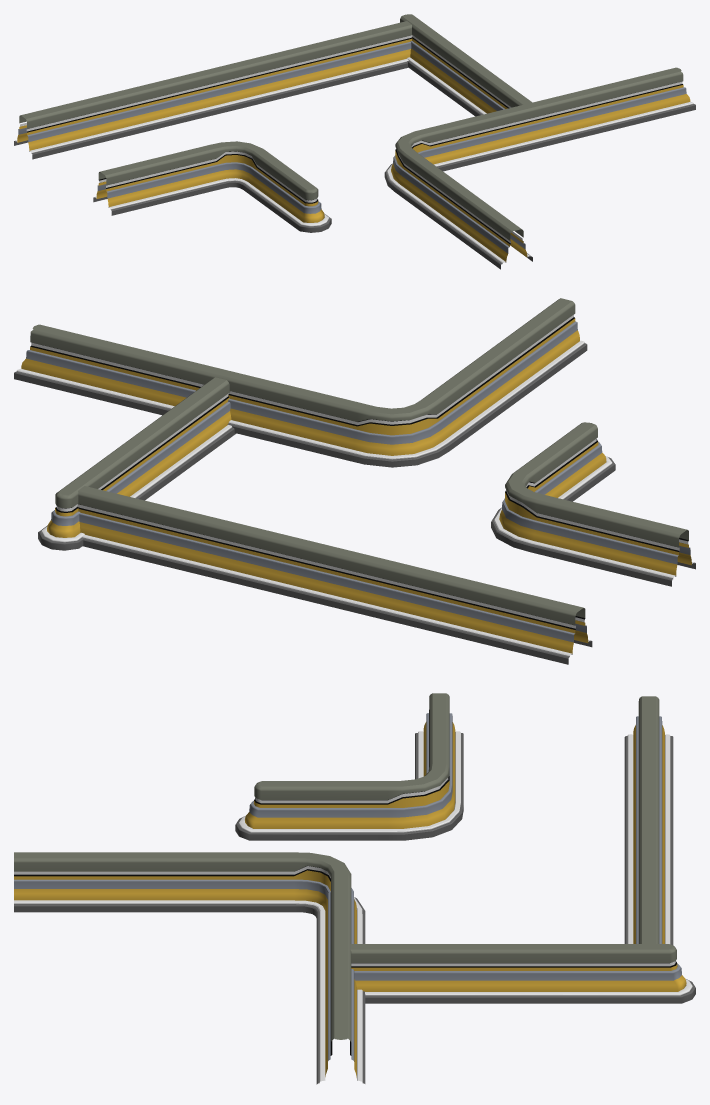
The model's file is Level30_Small_walls.fbx.
3 views of the same model, one above another, from view 1: azimuth 30°, elevation 25°; view 2: azimuth 150°, elevation 25°; view 3: azimuth 270°, elevation 25° (orthographic). The views are drawn at different scales.
Visible parts, largest first — view 1: Small_wall_L51, Small_wall_L47, Small_wall_L46, Small_wall_L48; view 2: Small_wall_L51, Small_wall_L47, Small_wall_L46, Small_wall_L48; view 3: Small_wall_L51, Small_wall_L48, Small_wall_L46, Small_wall_L47.
Part boxes in pixels (bbox=[...]): Small_wall_L51: bbox=[384, 67, 695, 269]; Small_wall_L47: bbox=[14, 21, 412, 159]; Small_wall_L46: bbox=[93, 141, 331, 232]; Small_wall_L48: bbox=[400, 14, 532, 116]; Small_wall_L51: bbox=[14, 298, 587, 467]; Small_wall_L47: bbox=[77, 486, 592, 664]; Small_wall_L46: bbox=[491, 422, 695, 586]; Small_wall_L48: bbox=[38, 377, 236, 550]; Small_wall_L51: bbox=[14, 852, 365, 1084]; Small_wall_L48: bbox=[350, 944, 695, 1003]; Small_wall_L46: bbox=[235, 693, 463, 840]; Small_wall_L47: bbox=[624, 696, 673, 945].
Size of the model in its own units: 589 by 38.78 by 484.
